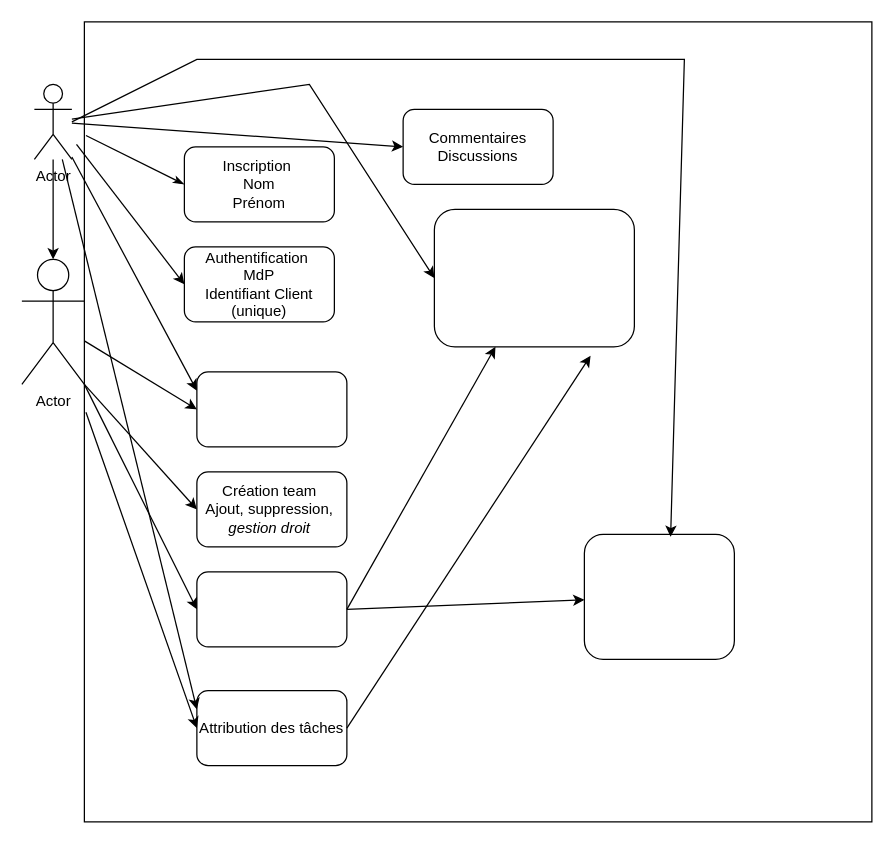
Some shapes in this 894 by 844 pixel diagram are drawn without their labels. Each missing label, with the centre of its shape:
Notifications statut tâches nouveaux commentaires: point (533, 277)
Projet CRUD Partager à une Team: point (271, 409)
Statut des tâches : à faire en cours terminé: point (658, 596)
Tâche CRUD Partager: point (271, 609)
